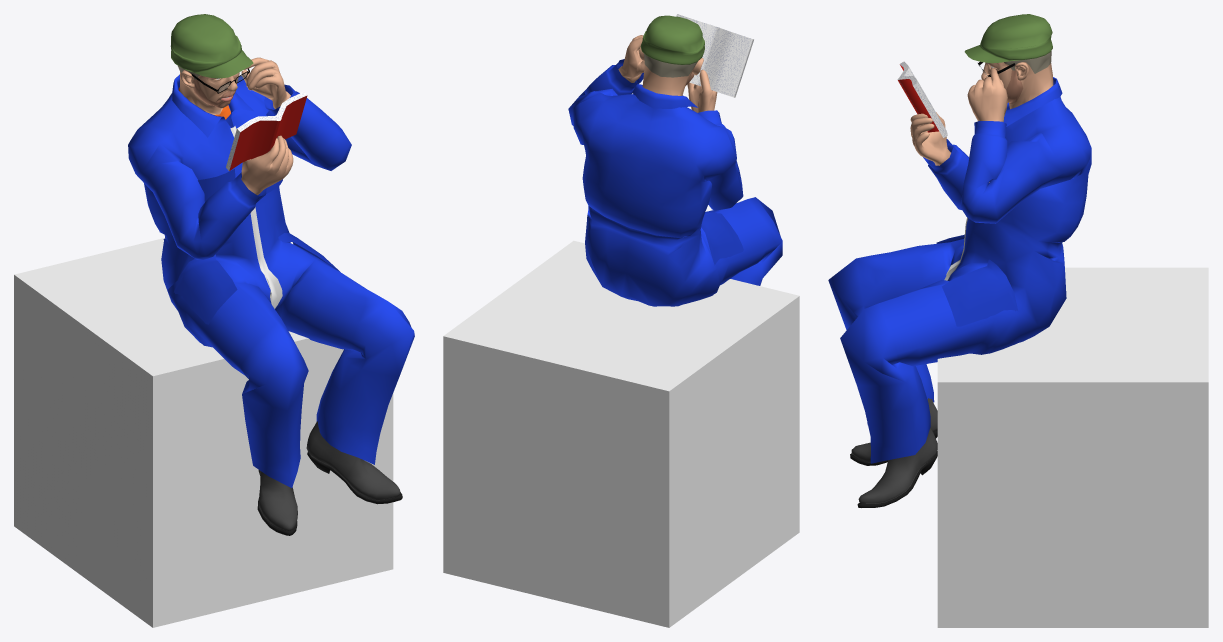
File: sitting_guy.dae
3 views of the same model, side by side, from view 1: azimuth 30°, elevation 25°; view 2: azimuth 150°, elevation 25°; view 3: azimuth 270°, elevation 25° (orthographic). The views are drawn at different scales.
Parts seen in each view (by area): view 1: group_1, group_0 (×10), group_2 (×3); view 2: group_1, group_0 (×7), group_2; view 3: group_1, group_0 (×8), group_2.
Boxes of the visible parts, x1,y1,x2,y2 form: group_1: [14, 238, 393, 627]; group_0 (×10): [128, 14, 414, 530]; group_2 (×3): [226, 92, 307, 170]; group_1: [443, 240, 799, 627]; group_0 (×7): [568, 15, 782, 306]; group_2: [676, 14, 753, 97]; group_1: [937, 267, 1208, 627]; group_0 (×8): [828, 14, 1091, 503]; group_2: [897, 61, 947, 137].
Size of the model in its own units: 16.97 by 23.81 by 37.22.
